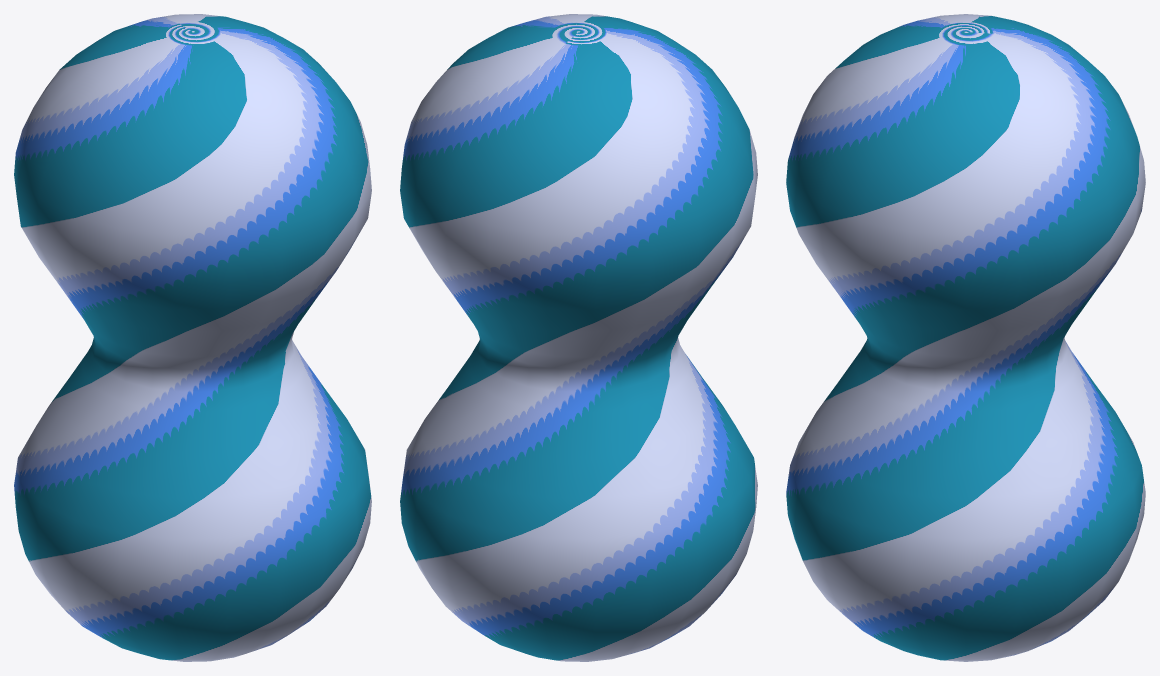
Rendered from Duo.fbx.
The picture shows the model from 3 angles, left to right: view 1: azimuth 30°, elevation 25°; view 2: azimuth 150°, elevation 25°; view 3: azimuth 270°, elevation 25°; orthographic projection.
Parts seen in each view (by area): view 1: Duo; view 2: Duo; view 3: Duo.
Boxes of the visible parts, x1=… form: Duo: x1=14, y1=14, x2=371, y2=661; Duo: x1=400, y1=14, x2=757, y2=661; Duo: x1=786, y1=14, x2=1145, y2=661.
Size of the model in its own units: 543 by 1020 by 543.
Materials: 1 (1 with a texture image).
